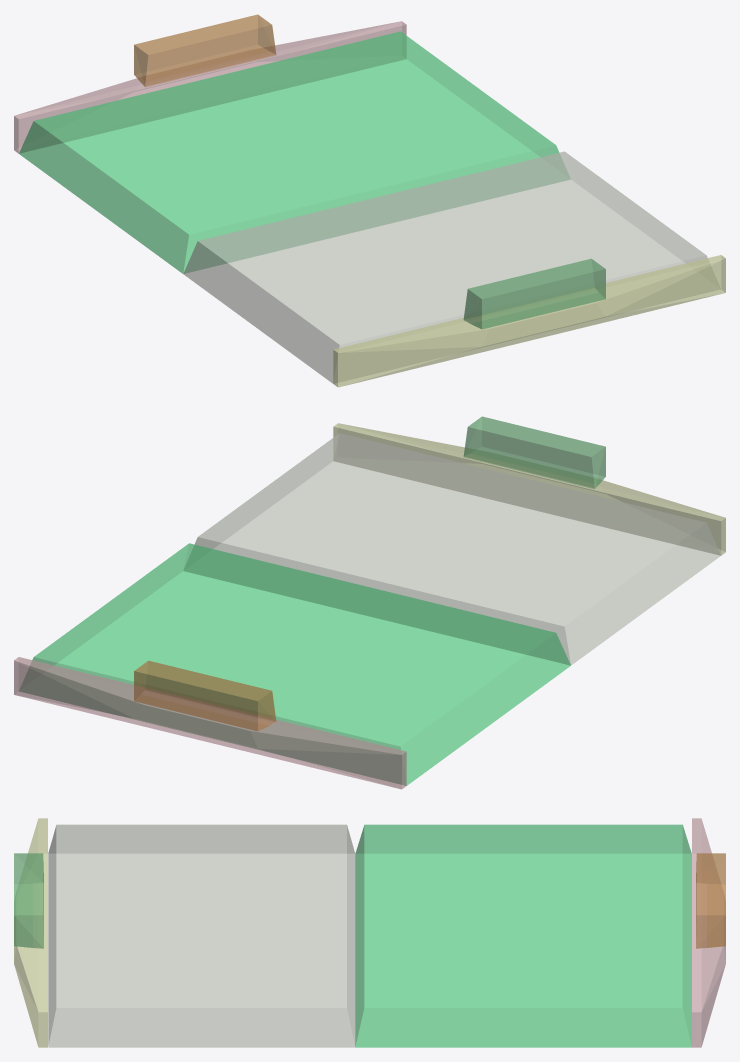
File: tray_dec.dae
3 views of the same model, one above another, from view 1: azimuth 30°, elevation 25°; view 2: azimuth 150°, elevation 25°; view 3: azimuth 270°, elevation 25° (orthographic). The views are drawn at different scales.
Visible parts, largest first — view 1: Shape_IndexedFaceSet_001, Shape_IndexedFaceSet, Shape_IndexedFaceSet_004, Shape_IndexedFaceSet_002, Shape_IndexedFaceSet_005, Shape_IndexedFaceSet_003; view 2: Shape_IndexedFaceSet_001, Shape_IndexedFaceSet, Shape_IndexedFaceSet_002, Shape_IndexedFaceSet_004, Shape_IndexedFaceSet_003, Shape_IndexedFaceSet_005; view 3: Shape_IndexedFaceSet_001, Shape_IndexedFaceSet, Shape_IndexedFaceSet_002, Shape_IndexedFaceSet_004, Shape_IndexedFaceSet_005, Shape_IndexedFaceSet_003.
Part boxes in pixels (x1,y1,x2,y2): Shape_IndexedFaceSet_001: [19, 31, 569, 273]; Shape_IndexedFaceSet: [183, 151, 719, 383]; Shape_IndexedFaceSet_004: [14, 21, 406, 153]; Shape_IndexedFaceSet_002: [333, 255, 725, 387]; Shape_IndexedFaceSet_005: [134, 14, 276, 86]; Shape_IndexedFaceSet_003: [463, 258, 605, 329]; Shape_IndexedFaceSet_001: [20, 543, 570, 785]; Shape_IndexedFaceSet: [184, 433, 720, 665]; Shape_IndexedFaceSet_002: [333, 423, 725, 555]; Shape_IndexedFaceSet_004: [14, 657, 406, 789]; Shape_IndexedFaceSet_003: [463, 416, 605, 488]; Shape_IndexedFaceSet_005: [134, 660, 276, 731]; Shape_IndexedFaceSet_001: [355, 824, 691, 1047]; Shape_IndexedFaceSet: [48, 824, 355, 1047]; Shape_IndexedFaceSet_002: [14, 818, 47, 1047]; Shape_IndexedFaceSet_004: [692, 818, 725, 1047]; Shape_IndexedFaceSet_005: [696, 853, 725, 948]; Shape_IndexedFaceSet_003: [14, 853, 43, 948].
Bounding box in the file's own units: 0.2803 × 0.4354 × 0.0447.
